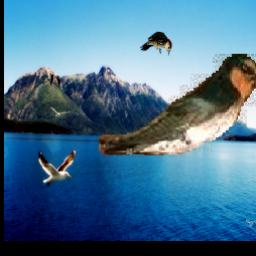Swallow: (99, 54, 256, 157)
Woodpecker: (139, 31, 174, 57)
